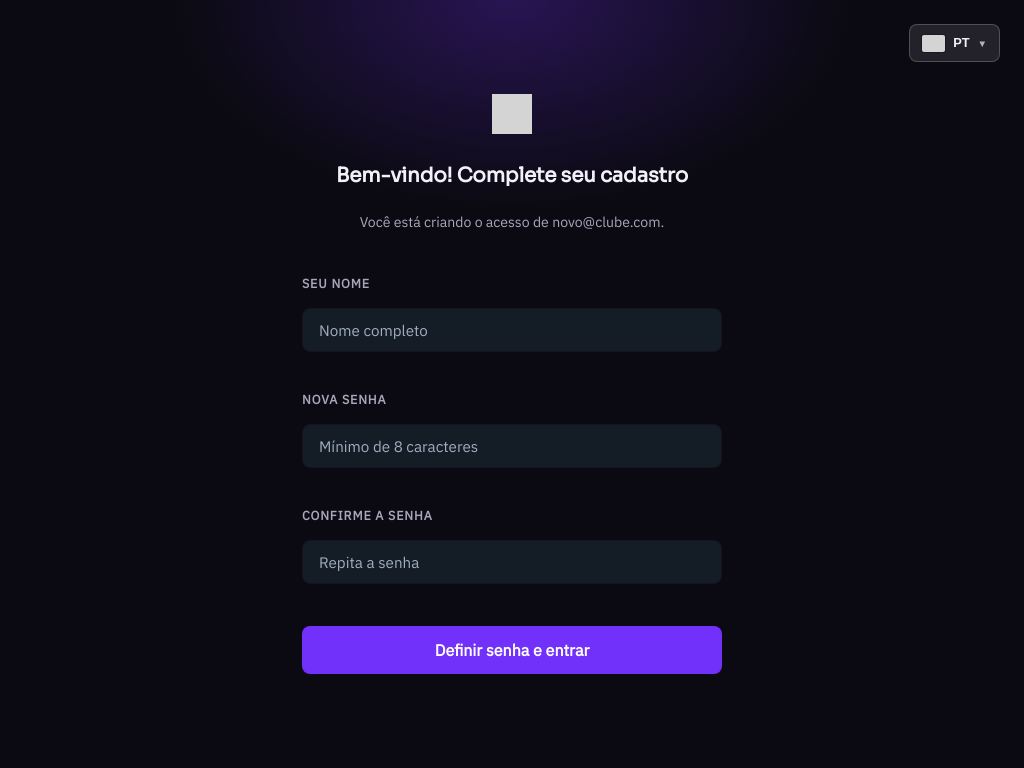
Test: validação da senha › senha curta é recusada localmente
Type "Ana" into the field labelled "Seu nome" at (512, 330), box [302,308,722,352]
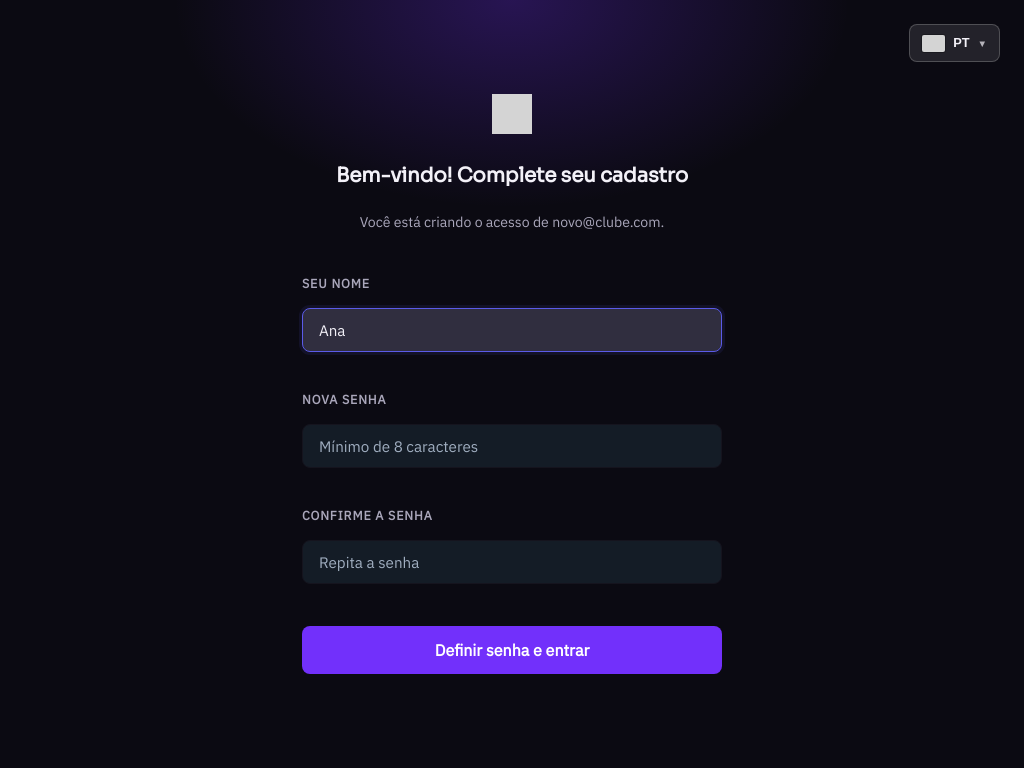
Type "curta" into the password field labelled "Nova senha" at (512, 446), box [302,424,722,468]
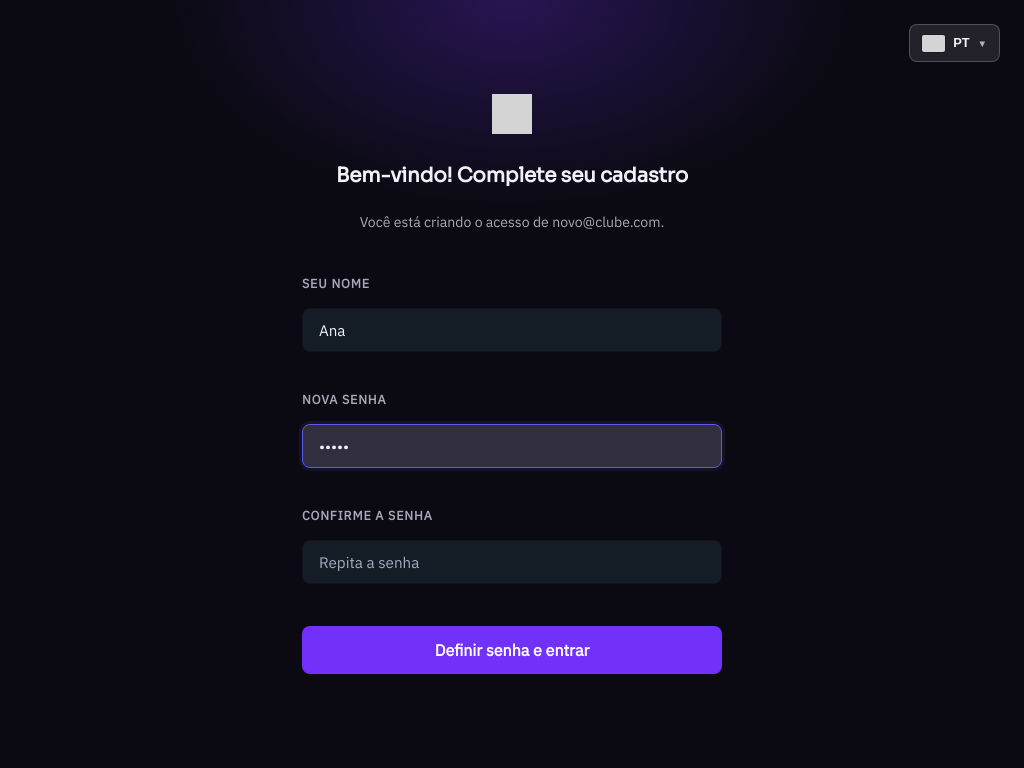
Type "curta" into the password field labelled "Confirme a senha" at (512, 562), box [302,540,722,584]
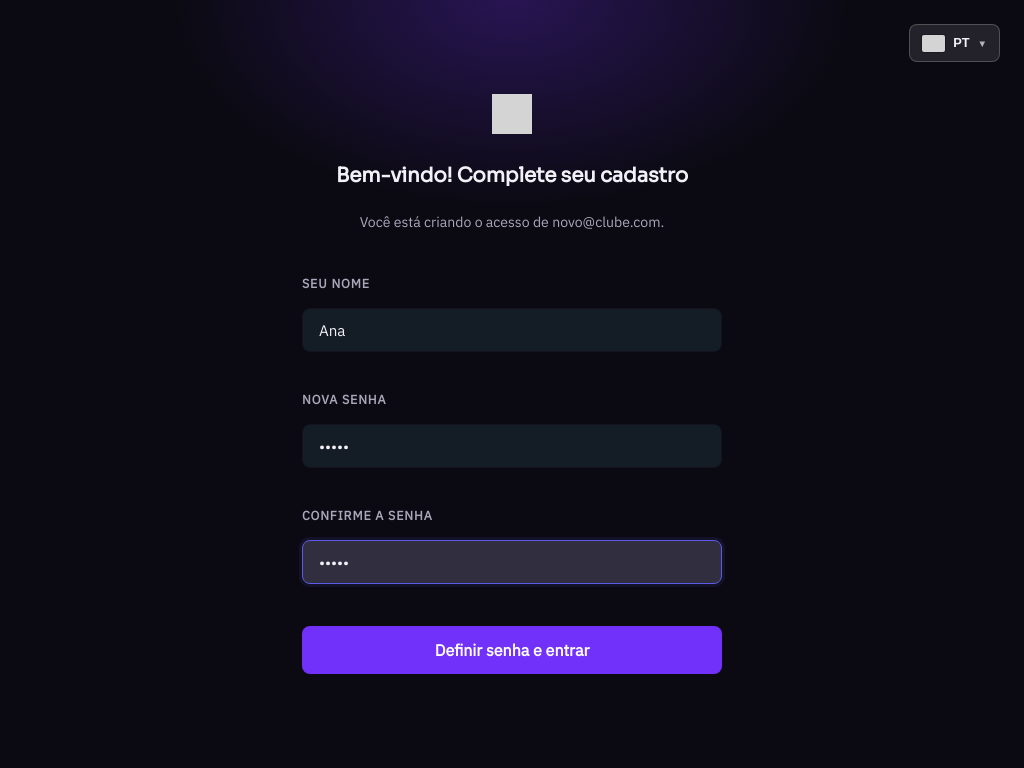
Click the submit button at (512, 650), box [302,626,722,674]
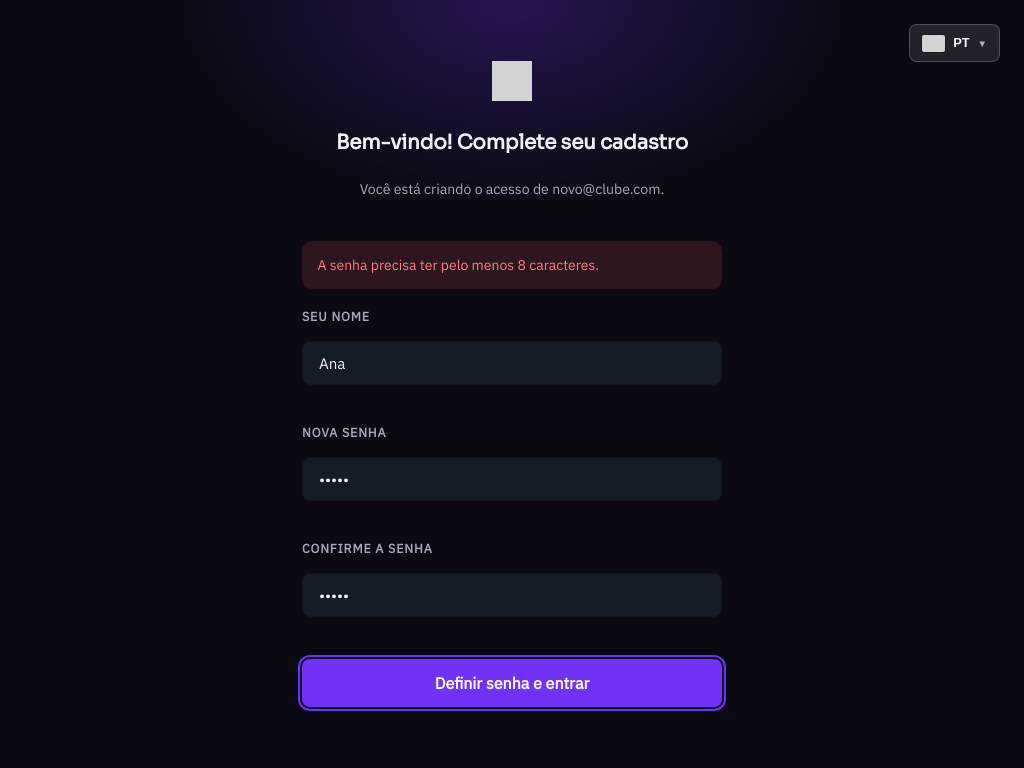
Check: the text "A senha precisa ter pelo menos 8 caracteres." is shown, box [302,241,722,289]
